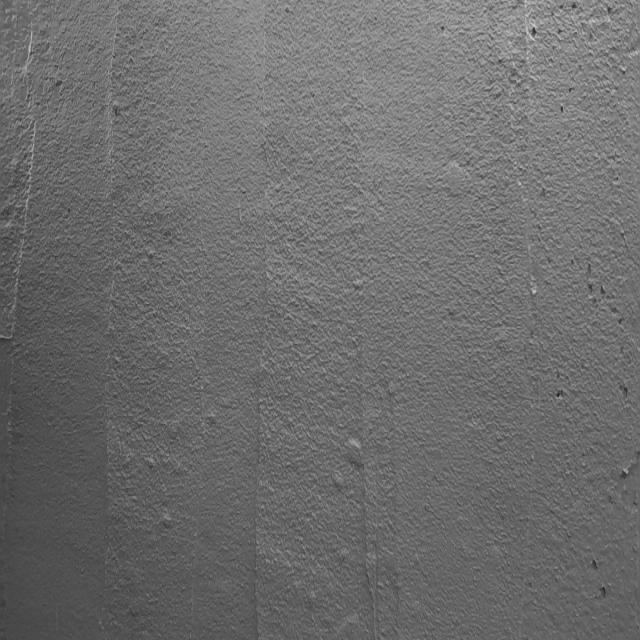trowels marks: (97, 7, 123, 609), (252, 32, 274, 640), (350, 323, 380, 634)
